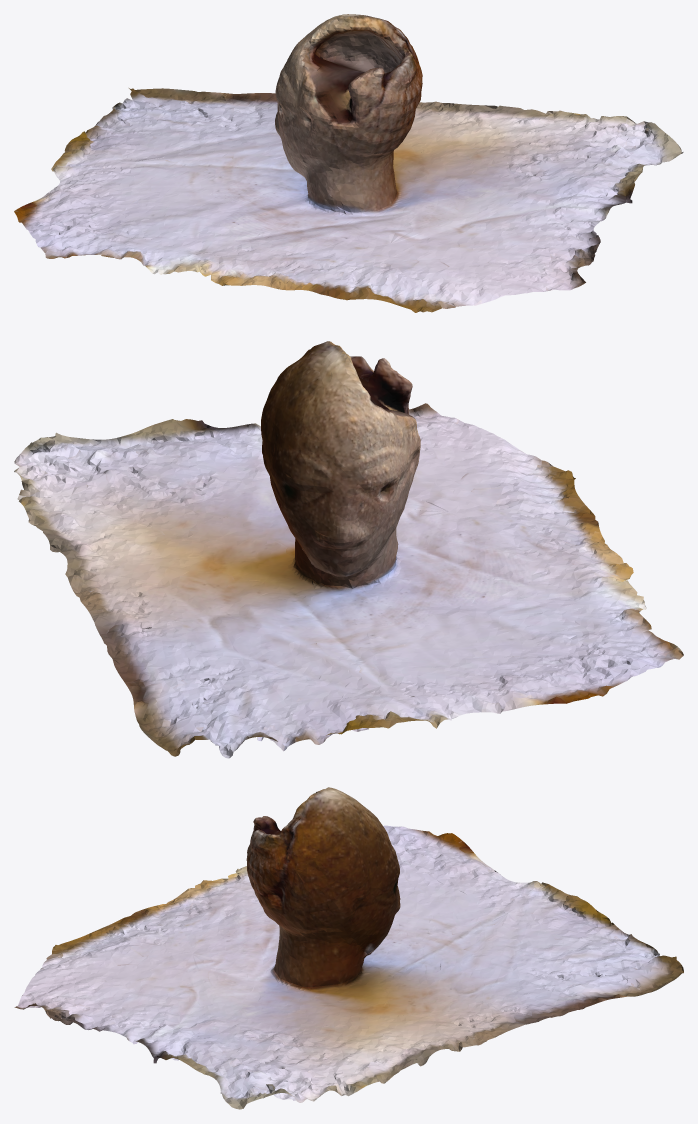
3 views of the same model, one above another, from view 1: azimuth 30°, elevation 25°; view 2: azimuth 150°, elevation 25°; view 3: azimuth 270°, elevation 25° (orthographic). The views are drawn at different scales.
Bounding box in the file's own units: 0.4249 × 0.1414 × 0.4168.
1 material, 1 textured.
